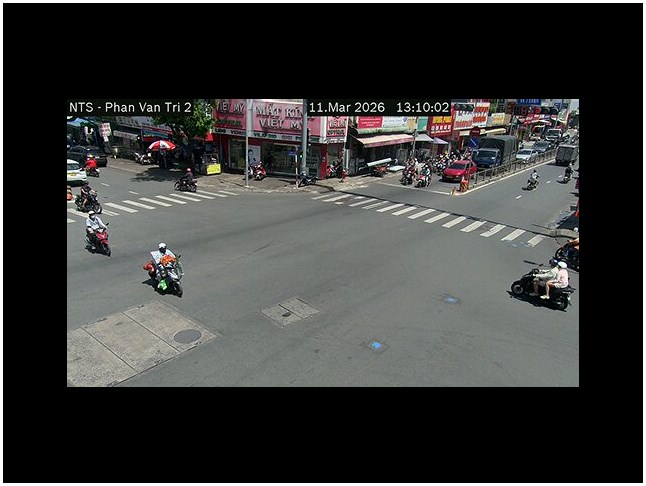motorbike: (141, 254, 184, 297), (84, 218, 111, 257), (400, 162, 430, 188), (174, 166, 197, 192)
